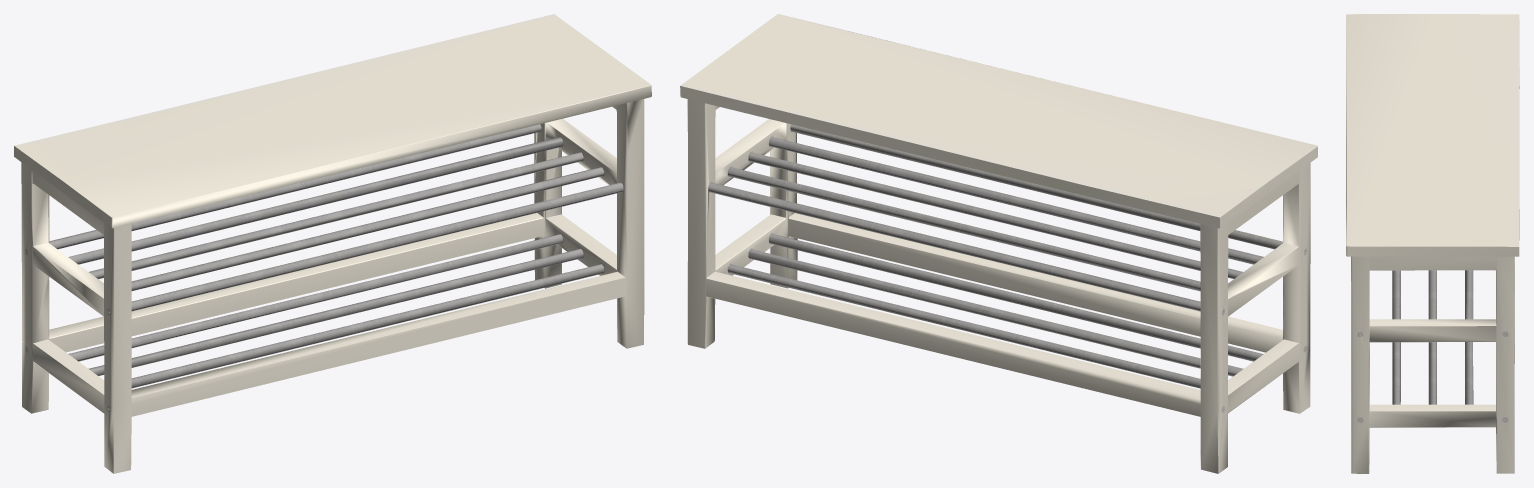
3 renders of one model, left to right at view 1: azimuth 30°, elevation 25°; view 2: azimuth 150°, elevation 25°; view 3: azimuth 270°, elevation 25°, orthographic. The views are drawn at different scales.
Parts seen in each view (by area): view 1: ProcessedMeshNode; view 2: ProcessedMeshNode; view 3: ProcessedMeshNode.
Boxes of the visible parts, x1,y1,x2,y2 form: ProcessedMeshNode: (14, 14, 651, 473); ProcessedMeshNode: (680, 14, 1317, 473); ProcessedMeshNode: (1346, 14, 1519, 473).
Bounding box in the file's own units: 1.08 × 0.4973 × 0.3407.
1 material, 1 textured.
